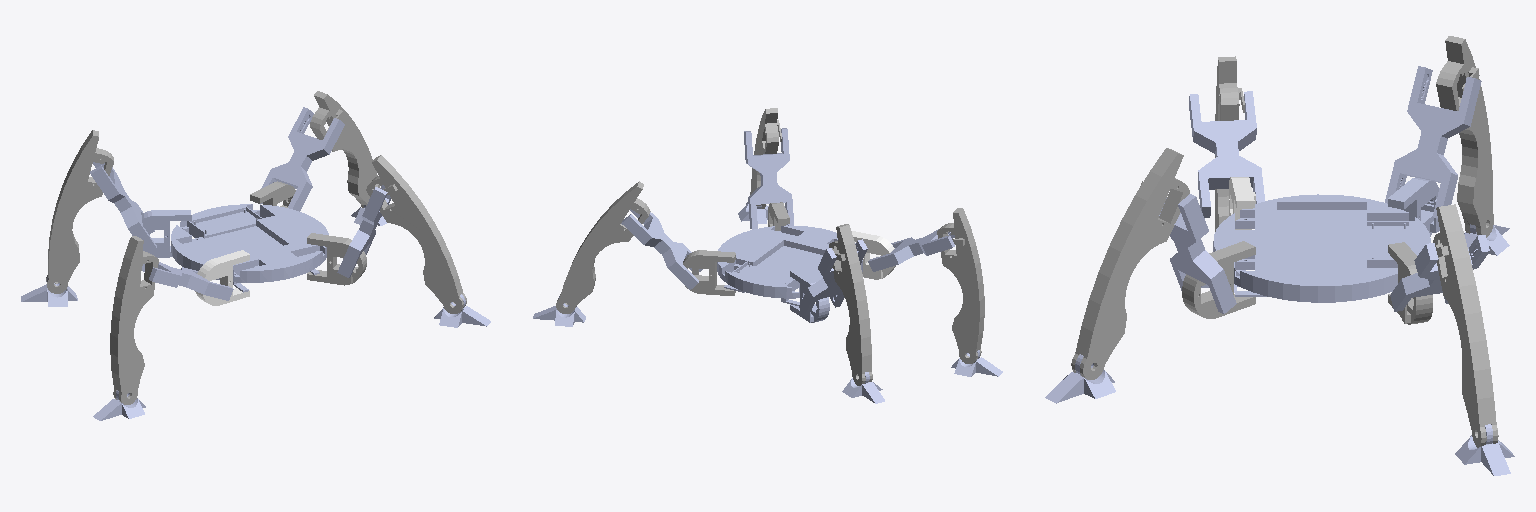
robot.urdf — FullAssemV2_URDF_8:
<?xml version="1.0" encoding="utf-8"?>
<!-- This URDF was automatically created by SolidWorks to URDF Exporter! Originally created by [author] ([email redacted]) 
     Commit Version: 1.5.1-0-g916b5db  Build Version: 1.5.7152.31018
     For more information, please see http://wiki.ros.org/sw_urdf_exporter -->
<robot
  name="FullAssemV2_URDF_8">
  <link
    name="Base_Link">
    <inertial>
      <origin
        xyz="-0.00017976 0.0064014 0.0017348"
        rpy="0 0 0" />
      <mass
        value="0.21236" />
      <inertia
        ixx="0.00026919"
        ixy="-2.9034E-06"
        ixz="9.9958E-07"
        iyy="0.00055913"
        iyz="-1.8533E-06"
        izz="0.00029537" />
    </inertial>
    <visual>
      <origin
        xyz="0 0 0"
        rpy="0 0 0" />
      <geometry>
        <mesh
          filename="package://FullAssemV2_URDF_8/meshes/Base_Link.STL" />
      </geometry>
      <material
        name="">
        <color
          rgba="0.79216 0.81961 0.93333 1" />
      </material>
    </visual>
    <collision>
      <origin
        xyz="0 0 0"
        rpy="0 0 0" />
      <geometry>
        <mesh
          filename="package://FullAssemV2_URDF_8/meshes/Base_Link.STL" />
      </geometry>
    </collision>
  </link>
  <link
    name="Hip4_Link">
    <inertial>
      <origin
        xyz="-0.011761 -0.0029717 -0.015857"
        rpy="0 0 0" />
      <mass
        value="0.026582" />
      <inertia
        ixx="6.5375E-06"
        ixy="1.1094E-08"
        ixz="-1.2634E-06"
        iyy="4.1152E-06"
        iyz="-1.4967E-08"
        izz="5.1173E-06" />
    </inertial>
    <visual>
      <origin
        xyz="0 0 0"
        rpy="0 0 0" />
      <geometry>
        <mesh
          filename="package://FullAssemV2_URDF_8/meshes/Hip4_Link.STL" />
      </geometry>
      <material
        name="">
        <color
          rgba="0.79216 0.81961 0.93333 1" />
      </material>
    </visual>
    <collision>
      <origin
        xyz="0 0 0"
        rpy="0 0 0" />
      <geometry>
        <mesh
          filename="package://FullAssemV2_URDF_8/meshes/Hip4_Link.STL" />
      </geometry>
    </collision>
  </link>
  <joint
    name="Hip4_Joint"
    type="fixed">
    <origin
      xyz="-0.039434 0.04833 0.0012"
      rpy="-1.5708 0 -1.5708" />
    <parent
      link="Base_Link" />
    <child
      link="Hip4_Link" />
    <axis
      xyz="0 0 0" />
  </joint>
  <link
    name="Thigh4_Link">
    <inertial>
      <origin
        xyz="-0.059271 -0.0091138 0.036281"
        rpy="0 0 0" />
      <mass
        value="0.036775" />
      <inertia
        ixx="5.8897E-06"
        ixy="7.1143E-09"
        ixz="1.3761E-07"
        iyy="1.7963E-05"
        iyz="-1.0798E-08"
        izz="2.2441E-05" />
    </inertial>
    <visual>
      <origin
        xyz="0 0 0"
        rpy="0 0 0" />
      <geometry>
        <mesh
          filename="package://FullAssemV2_URDF_8/meshes/Thigh4_Link.STL" />
      </geometry>
      <material
        name="">
        <color
          rgba="0.79216 0.81961 0.93333 1" />
      </material>
    </visual>
    <collision>
      <origin
        xyz="0 0 0"
        rpy="0 0 0" />
      <geometry>
        <mesh
          filename="package://FullAssemV2_URDF_8/meshes/Thigh4_Link.STL" />
      </geometry>
    </collision>
  </link>
  <joint
    name="Thigh4_Joint"
    type="continuous">
    <origin
      xyz="0.01 0 0"
      rpy="-2.6013 -0.48447 1.2984" />
    <parent
      link="Hip4_Link" />
    <child
      link="Thigh4_Link" />
    <axis
      xyz="0.85229 0 0.52306" />
  </joint>
  <link
    name="Shin4_Link">
    <inertial>
      <origin
        xyz="-0.069847 0.00052424 0.12515"
        rpy="0 0 0" />
      <mass
        value="0.057893" />
      <inertia
        ixx="5.1892E-06"
        ixy="-1.69E-07"
        ixz="-2.1127E-06"
        iyy="9.8478E-05"
        iyz="-1.0926E-08"
        izz="9.4824E-05" />
    </inertial>
    <visual>
      <origin
        xyz="0 0 0"
        rpy="0 0 0" />
      <geometry>
        <mesh
          filename="package://FullAssemV2_URDF_8/meshes/Shin4_Link.STL" />
      </geometry>
      <material
        name="">
        <color
          rgba="0.75294 0.75294 0.75294 1" />
      </material>
    </visual>
    <collision>
      <origin
        xyz="0 0 0"
        rpy="0 0 0" />
      <geometry>
        <mesh
          filename="package://FullAssemV2_URDF_8/meshes/Shin4_Link.STL" />
      </geometry>
    </collision>
  </link>
  <joint
    name="Shin4_Joint"
    type="continuous">
    <origin
      xyz="0.047628 -0.01349 0.037321"
      rpy="0 -0.7885 0" />
    <parent
      link="Thigh4_Link" />
    <child
      link="Shin4_Link" />
    <axis
      xyz="0.9718 0 -0.23582" />
  </joint>
  <link
    name="Foot4_Link">
    <inertial>
      <origin
        xyz="0.0036762 0.12771 0.00015874"
        rpy="0 0 0" />
      <mass
        value="0.0091406" />
      <inertia
        ixx="1.4339E-06"
        ixy="6.6635E-08"
        ixz="-7.4416E-13"
        iyy="7.4197E-07"
        iyz="-1.0998E-13"
        izz="1.335E-06" />
    </inertial>
    <visual>
      <origin
        xyz="0 0 0"
        rpy="0 0 0" />
      <geometry>
        <mesh
          filename="package://FullAssemV2_URDF_8/meshes/Foot4_Link.STL" />
      </geometry>
      <material
        name="">
        <color
          rgba="0.79216 0.81961 0.93333 1" />
      </material>
    </visual>
    <collision>
      <origin
        xyz="0 0 0"
        rpy="0 0 0" />
      <geometry>
        <mesh
          filename="package://FullAssemV2_URDF_8/meshes/Foot4_Link.STL" />
      </geometry>
    </collision>
  </link>
  <joint
    name="Foot4_Joint"
    type="continuous">
    <origin
      xyz="0 0 0"
      rpy="1.5708 -0.23806 3.1416" />
    <parent
      link="Shin4_Link" />
    <child
      link="Foot4_Link" />
    <axis
      xyz="1 0 0" />
  </joint>
  <link
    name="Hip3_Link">
    <inertial>
      <origin
        xyz="-0.0096475 -0.0029717 0.016789"
        rpy="0 0 0" />
      <mass
        value="0.026582" />
      <inertia
        ixx="6.8538E-06"
        ixy="-3.974E-08"
        ixz="9.7439E-07"
        iyy="4.1152E-06"
        iyz="-7.4494E-09"
        izz="4.801E-06" />
    </inertial>
    <visual>
      <origin
        xyz="0 0 0"
        rpy="0 0 0" />
      <geometry>
        <mesh
          filename="package://FullAssemV2_URDF_8/meshes/Hip3_Link.STL" />
      </geometry>
      <material
        name="">
        <color
          rgba="0.75294 0.75294 0.75294 1" />
      </material>
    </visual>
    <collision>
      <origin
        xyz="0 0 0"
        rpy="0 0 0" />
      <geometry>
        <mesh
          filename="package://FullAssemV2_URDF_8/meshes/Hip3_Link.STL" />
      </geometry>
    </collision>
  </link>
  <joint
    name="Hip3_Joint"
    type="fixed">
    <origin
      xyz="0.039434 0.04833 0.0012"
      rpy="-1.5708 0 -1.5708" />
    <parent
      link="Base_Link" />
    <child
      link="Hip3_Link" />
    <axis
      xyz="0 0 0" />
  </joint>
  <link
    name="Thigh3_Link">
    <inertial>
      <origin
        xyz="-0.066054 0.018566 0.027776"
        rpy="0 0 0" />
      <mass
        value="0.036775" />
      <inertia
        ixx="5.8177E-06"
        ixy="9.5065E-09"
        ixz="1.543E-07"
        iyy="1.7963E-05"
        iyz="-8.8988E-09"
        izz="2.2513E-05" />
    </inertial>
    <visual>
      <origin
        xyz="0 0 0"
        rpy="0 0 0" />
      <geometry>
        <mesh
          filename="package://FullAssemV2_URDF_8/meshes/Thigh3_Link.STL" />
      </geometry>
      <material
        name="">
        <color
          rgba="0.79216 0.81961 0.93333 1" />
      </material>
    </visual>
    <collision>
      <origin
        xyz="0 0 0"
        rpy="0 0 0" />
      <geometry>
        <mesh
          filename="package://FullAssemV2_URDF_8/meshes/Thigh3_Link.STL" />
      </geometry>
    </collision>
  </link>
  <joint
    name="Thigh3_Joint"
    type="continuous">
    <origin
      xyz="0.01 0 0"
      rpy="-0.48921 0.7299 1.2297" />
    <parent
      link="Hip3_Link" />
    <child
      link="Thigh3_Link" />
    <axis
      xyz="0.70231 0 0.71188" />
  </joint>
  <link
    name="Shin3_Link">
    <inertial>
      <origin
        xyz="-0.017595 0.00052424 0.16111"
        rpy="0 0 0" />
      <mass
        value="0.057893" />
      <inertia
        ixx="5.1914E-06"
        ixy="-1.6879E-07"
        ixz="-2.1139E-06"
        iyy="9.8478E-05"
        iyz="-1.08E-08"
        izz="9.4822E-05" />
    </inertial>
    <visual>
      <origin
        xyz="0 0 0"
        rpy="0 0 0" />
      <geometry>
        <mesh
          filename="package://FullAssemV2_URDF_8/meshes/Shin3_Link.STL" />
      </geometry>
      <material
        name="">
        <color
          rgba="0.75294 0.75294 0.75294 1" />
      </material>
    </visual>
    <collision>
      <origin
        xyz="0 0 0"
        rpy="0 0 0" />
      <geometry>
        <mesh
          filename="package://FullAssemV2_URDF_8/meshes/Shin3_Link.STL" />
      </geometry>
    </collision>
  </link>
  <joint
    name="Shin3_Joint"
    type="continuous">
    <origin
      xyz="0.040425 0.014191 0.048531"
      rpy="0 -1.3015 0" />
    <parent
      link="Thigh3_Link" />
    <child
      link="Shin3_Link" />
    <axis
      xyz="0.87309 0 -0.48756" />
  </joint>
  <link
    name="Foot3_Link">
    <inertial>
      <origin
        xyz="0.00846236937903797 0.175922186726946 0.000158755831628617"
        rpy="0 0 0" />
      <mass
        value="0.00914057903727103" />
      <inertia
        ixx="1.43388054325383E-06"
        ixy="6.66354691405123E-08"
        ixz="4.07491869839655E-13"
        iyy="7.41969110605252E-07"
        iyz="-1.34870054650644E-13"
        izz="1.33502935775728E-06" />
    </inertial>
    <visual>
      <origin
        xyz="0 0 0"
        rpy="0 0 0" />
      <geometry>
        <mesh
          filename="package://FullAssemV2_URDF_8/meshes/Foot3_Link.STL" />
      </geometry>
      <material
        name="">
        <color
          rgba="0.792156862745098 0.819607843137255 0.933333333333333 1" />
      </material>
    </visual>
    <collision>
      <origin
        xyz="0 0 0"
        rpy="0 0 0" />
      <geometry>
        <mesh
          filename="package://FullAssemV2_URDF_8/meshes/Foot3_Link.STL" />
      </geometry>
    </collision>
  </link>
  <joint
    name="Foot3_Joint"
    type="continuous">
    <origin
      xyz="0 0 0"
      rpy="1.5707963267949 -0.509295916609659 3.14159265358979" />
    <parent
      link="Shin3_Link" />
    <child
      link="Foot3_Link" />
    <axis
      xyz="1 0 0" />
  </joint>
  <link
    name="Hip2_Link">
    <inertial>
      <origin
        xyz="-0.015026 0.0029717 -0.013671"
        rpy="0 0 0" />
      <mass
        value="0.026582" />
      <inertia
        ixx="5.9497E-06"
        ixy="3.5553E-08"
        ixz="-1.5056E-06"
        iyy="4.1152E-06"
        iyz="-1.6272E-08"
        izz="5.7051E-06" />
    </inertial>
    <visual>
      <origin
        xyz="0 0 0"
        rpy="0 0 0" />
      <geometry>
        <mesh
          filename="package://FullAssemV2_URDF_8/meshes/Hip2_Link.STL" />
      </geometry>
      <material
        name="">
        <color
          rgba="0.75294 0.75294 0.75294 1" />
      </material>
    </visual>
    <collision>
      <origin
        xyz="0 0 0"
        rpy="0 0 0" />
      <geometry>
        <mesh
          filename="package://FullAssemV2_URDF_8/meshes/Hip2_Link.STL" />
      </geometry>
    </collision>
  </link>
  <joint
    name="Hip2_Joint"
    type="fixed">
    <origin
      xyz="0.033915 -0.053882 0.0012"
      rpy="1.5708 0 3.1416" />
    <parent
      link="Base_Link" />
    <child
      link="Hip2_Link" />
    <axis
      xyz="0 0 0" />
  </joint>
  <link
    name="Thigh2_Link">
    <inertial>
      <origin
        xyz="-0.0548800061707602 0.0043757653956759 0.0319698371469879"
        rpy="0 0 0" />
      <mass
        value="0.0367745512938791" />
      <inertia
        ixx="5.93189322227311E-06"
        ixy="5.17345146438572E-09"
        ixz="1.06059224556055E-07"
        iyy="1.79630759542792E-05"
        iyz="-1.17696889760325E-08"
        izz="2.23989407765632E-05" />
    </inertial>
    <visual>
      <origin
        xyz="0 0 0"
        rpy="0 0 0" />
      <geometry>
        <mesh
          filename="package://FullAssemV2_URDF_8/meshes/Thigh2_Link.STL" />
      </geometry>
      <material
        name="">
        <color
          rgba="0.792156862745098 0.819607843137255 0.933333333333333 1" />
      </material>
    </visual>
    <collision>
      <origin
        xyz="0 0 0"
        rpy="0 0 0" />
      <geometry>
        <mesh
          filename="package://FullAssemV2_URDF_8/meshes/Thigh2_Link.STL" />
      </geometry>
    </collision>
  </link>
  <joint
    name="Thigh2_Joint"
    type="continuous">
    <origin
      xyz="-0.00515 -0.0051047 0"
      rpy="2.3977 -0.28496 -1.3177" />
    <parent
      link="Hip2_Link" />
    <child
      link="Thigh2_Link" />
    <axis
      xyz="0.92909 0 0.36986" />
  </joint>
  <link
    name="Shin2_Link">
    <inertial>
      <origin
        xyz="-0.029659 0.00052424 0.13554"
        rpy="0 0 0" />
      <mass
        value="0.057893" />
      <inertia
        ixx="5.1898E-06"
        ixy="-1.6896E-07"
        ixz="-2.1127E-06"
        iyy="9.8478E-05"
        iyz="-1.0889E-08"
        izz="9.4823E-05" />
    </inertial>
    <visual>
      <origin
        xyz="0 0 0"
        rpy="0 0 0" />
      <geometry>
        <mesh
          filename="package://FullAssemV2_URDF_8/meshes/Shin2_Link.STL" />
      </geometry>
      <material
        name="">
        <color
          rgba="0.75294 0.75294 0.75294 1" />
      </material>
    </visual>
    <collision>
      <origin
        xyz="0 0 0"
        rpy="0 0 0" />
      <geometry>
        <mesh
          filename="package://FullAssemV2_URDF_8/meshes/Shin2_Link.STL" />
      </geometry>
    </collision>
  </link>
  <joint
    name="Shin2_Joint"
    type="continuous">
    <origin
      xyz="0.034406 0 0.013697"
      rpy="0 -0.90302 0" />
    <parent
      link="Thigh2_Link" />
    <child
      link="Shin2_Link" />
    <axis
      xyz="0.86575 0 -0.50048" />
  </joint>
  <link
    name="Foot2_Link">
    <inertial>
      <origin
        xyz="0.0086849 0.14743 0.00015875"
        rpy="0 0 0" />
      <mass
        value="0.0091406" />
      <inertia
        ixx="1.4339E-06"
        ixy="6.6635E-08"
        ixz="9.0873E-14"
        iyy="7.4197E-07"
        iyz="-1.1846E-13"
        izz="1.335E-06" />
    </inertial>
    <visual>
      <origin
        xyz="0 0 0"
        rpy="0 0 0" />
      <geometry>
        <mesh
          filename="package://FullAssemV2_URDF_8/meshes/Foot2_Link.STL" />
      </geometry>
      <material
        name="">
        <color
          rgba="0.79216 0.81961 0.93333 1" />
      </material>
    </visual>
    <collision>
      <origin
        xyz="0 0 0"
        rpy="0 0 0" />
      <geometry>
        <mesh
          filename="package://FullAssemV2_URDF_8/meshes/Foot2_Link.STL" />
      </geometry>
    </collision>
  </link>
  <joint
    name="Foot2_Joint"
    type="continuous">
    <origin
      xyz="0 0 0"
      rpy="1.57079632679491 -0.524157180178585 3.14159265358978" />
    <parent
      link="Shin2_Link" />
    <child
      link="Foot2_Link" />
    <axis
      xyz="1 0 0" />
  </joint>
  <link
    name="Hip1_Link">
    <inertial>
      <origin
        xyz="0 0 0"
        rpy="0 0 0" />
      <mass
        value="0" />
      <inertia
        ixx="0"
        ixy="0"
        ixz="0"
        iyy="0"
        iyz="0"
        izz="0" />
    </inertial>
    <visual>
      <origin
        xyz="0 0 0"
        rpy="0 0 0" />
      <geometry>
        <mesh
          filename="package://FullAssemV2_URDF_8/meshes/Hip1_Link.STL" />
      </geometry>
      <material
        name="">
        <color
          rgba="1 1 1 1" />
      </material>
    </visual>
    <collision>
      <origin
        xyz="0 0 0"
        rpy="0 0 0" />
      <geometry>
        <mesh
          filename="package://FullAssemV2_URDF_8/meshes/Hip1_Link.STL" />
      </geometry>
    </collision>
  </link>
  <joint
    name="Hip1_Joint"
    type="fixed">
    <origin
      xyz="-0.033915 -0.053882 0.0012"
      rpy="1.5708 0 0" />
    <parent
      link="Base_Link" />
    <child
      link="Hip1_Link" />
    <axis
      xyz="0 0 0" />
  </joint>
  <link
    name="Thigh1_Link">
    <inertial>
      <origin
        xyz="-0.07059 0.0043758 0.0091001"
        rpy="0 0 0" />
      <mass
        value="0.036775" />
      <inertia
        ixx="5.727E-06"
        ixy="1.1825E-08"
        ixz="1.233E-07"
        iyy="1.7963E-05"
        iyz="-5.6591E-09"
        izz="2.2604E-05" />
    </inertial>
    <visual>
      <origin
        xyz="0 0 0"
        rpy="0 0 0" />
      <geometry>
        <mesh
          filename="package://FullAssemV2_URDF_8/meshes/Thigh1_Link.STL" />
      </geometry>
      <material
        name="">
        <color
          rgba="0.79216 0.81961 0.93333 1" />
      </material>
    </visual>
    <collision>
      <origin
        xyz="0 0 0"
        rpy="0 0 0" />
      <geometry>
        <mesh
          filename="package://FullAssemV2_URDF_8/meshes/Thigh1_Link.STL" />
      </geometry>
    </collision>
  </link>
  <joint
    name="Thigh1_Joint"
    type="continuous">
    <origin
      xyz="-0.00515 -0.0051514 0"
      rpy="1.5266 0.088391 -0.46477" />
    <parent
      link="Hip1_Link" />
    <child
      link="Thigh1_Link" />
    <axis
      xyz="0.44647 0 0.8948" />
  </joint>
  <link
    name="Shin1_Link">
    <inertial>
      <origin
        xyz="0.089293 0.00052424 0.12407"
        rpy="0 0 0" />
      <mass
        value="0.057893" />
      <inertia
        ixx="5.1911E-06"
        ixy="-1.6884E-07"
        ixz="-2.1135E-06"
        iyy="9.8478E-05"
        iyz="-1.0817E-08"
        izz="9.4822E-05" />
    </inertial>
    <visual>
      <origin
        xyz="0 0 0"
        rpy="0 0 0" />
      <geometry>
        <mesh
          filename="package://FullAssemV2_URDF_8/meshes/Shin1_Link.STL" />
      </geometry>
      <material
        name="">
        <color
          rgba="0.75294 0.75294 0.75294 1" />
      </material>
    </visual>
    <collision>
      <origin
        xyz="0 0 0"
        rpy="0 0 0" />
      <geometry>
        <mesh
          filename="package://FullAssemV2_URDF_8/meshes/Shin1_Link.STL" />
      </geometry>
    </collision>
  </link>
  <joint
    name="Shin1_Joint"
    type="continuous">
    <origin
      xyz="-0.0366894131625819 0 -0.0735319135064403"
      rpy="0 -1.19645296325141 0" />
    <parent
      link="Thigh1_Link" />
    <child
      link="Shin1_Link" />
    <axis
      xyz="0.996088981335105 0 -0.0883557653059113" />
  </joint>
  <link
    name="Foot1_Link">
    <inertial>
      <origin
        xyz="-0.02178 0.14158 0.00015875"
        rpy="0 0 0" />
      <mass
        value="0.0091406" />
      <inertia
        ixx="1.4339E-06"
        ixy="6.6635E-08"
        ixz="1.9162E-14"
        iyy="7.4197E-07"
        iyz="-1.2833E-13"
        izz="1.335E-06" />
    </inertial>
    <visual>
      <origin
        xyz="0 0 0"
        rpy="0 0 0" />
      <geometry>
        <mesh
          filename="package://FullAssemV2_URDF_8/meshes/Foot1_Link.STL" />
      </geometry>
      <material
        name="">
        <color
          rgba="0.79216 0.81961 0.93333 1" />
      </material>
    </visual>
    <collision>
      <origin
        xyz="0 0 0"
        rpy="0 0 0" />
      <geometry>
        <mesh
          filename="package://FullAssemV2_URDF_8/meshes/Foot1_Link.STL" />
      </geometry>
    </collision>
  </link>
  <joint
    name="Foot1_Joint"
    type="continuous">
    <origin
      xyz="0.15134 0 -0.013424"
      rpy="1.5708 -0.088471 3.1416" />
    <parent
      link="Shin1_Link" />
    <child
      link="Foot1_Link" />
    <axis
      xyz="1 0 0" />
  </joint>
</robot>

--- Render facts (derived) ---
3 views of the same robot in one strip: view 1: azimuth 30°, elevation 25°; view 2: azimuth 150°, elevation 25°; view 3: azimuth 270°, elevation 25° (orthographic).
Model FullAssemV2_URDF_8 with 17 links and 16 joints (12 continuous, 4 fixed), rooted at Base_Link, posed all joints at 0.
Links seen in each view (by area): view 1: Base_Link, Shin2_Link, Shin1_Link, Shin4_Link, Shin3_Link, Thigh3_Link, Thigh4_Link, Thigh2_Link, Hip2_Link, Thigh1_Link, Hip1_Link, Hip4_Link (+4 smaller); view 2: Base_Link, Shin1_Link, Shin3_Link, Shin4_Link, Thigh2_Link, Thigh3_Link, Thigh1_Link, Thigh4_Link, Hip3_Link, Shin2_Link, Hip1_Link, Hip4_Link (+3 smaller); view 3: Base_Link, Shin2_Link, Shin3_Link, Shin4_Link, Thigh4_Link, Thigh1_Link, Thigh2_Link, Thigh3_Link, Hip2_Link, Shin1_Link, Hip4_Link, Hip3_Link (+4 smaller).
Boxes of the visible links, x1,y1,x2,y2 form: Base_Link: [171, 204, 328, 292]; Shin2_Link: [366, 155, 466, 313]; Shin1_Link: [110, 236, 158, 404]; Shin4_Link: [46, 130, 113, 293]; Shin3_Link: [310, 91, 380, 207]; Thigh3_Link: [261, 107, 344, 211]; Thigh4_Link: [90, 162, 156, 252]; Thigh2_Link: [337, 185, 390, 277]; Hip2_Link: [307, 233, 366, 285]; Thigh1_Link: [142, 262, 233, 300]; Hip1_Link: [195, 250, 249, 305]; Hip4_Link: [141, 210, 191, 257]; Base_Link: [717, 225, 862, 305]; Shin1_Link: [937, 208, 984, 363]; Shin3_Link: [556, 181, 650, 313]; Shin4_Link: [829, 224, 872, 385]; Thigh2_Link: [744, 128, 793, 229]; Thigh3_Link: [621, 209, 702, 289]; Thigh1_Link: [868, 229, 954, 271]; Thigh4_Link: [799, 239, 867, 315]; Hip3_Link: [683, 250, 735, 295]; Shin2_Link: [750, 108, 781, 208]; Hip1_Link: [852, 231, 895, 279]; Hip4_Link: [790, 268, 829, 322]; Base_Link: [1213, 194, 1430, 302]; Shin2_Link: [1071, 148, 1189, 379]; Shin3_Link: [1433, 204, 1498, 447]; Shin4_Link: [1436, 36, 1493, 237]; Thigh4_Link: [1385, 66, 1481, 218]; Thigh1_Link: [1189, 91, 1264, 217]; Thigh2_Link: [1159, 194, 1236, 313]; Thigh3_Link: [1390, 235, 1489, 311]; Hip2_Link: [1182, 241, 1255, 318]; Shin1_Link: [1215, 56, 1244, 270]; Hip4_Link: [1388, 177, 1439, 236]; Hip3_Link: [1388, 242, 1432, 324].
Bounding box of the posed robot: 0.4488 × 0.3298 × 0.2223 m (x, y, z).
Meshes: 17 distinct files referenced, 17 mesh visuals loaded (17 binary STL).